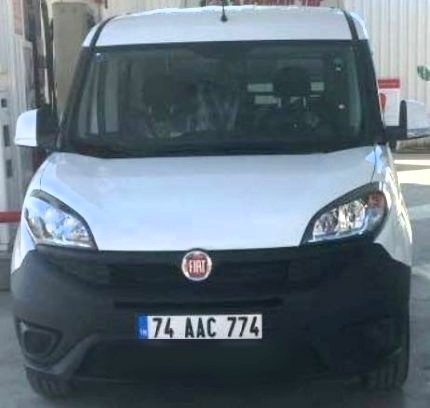plaka: (143, 311, 264, 339)
